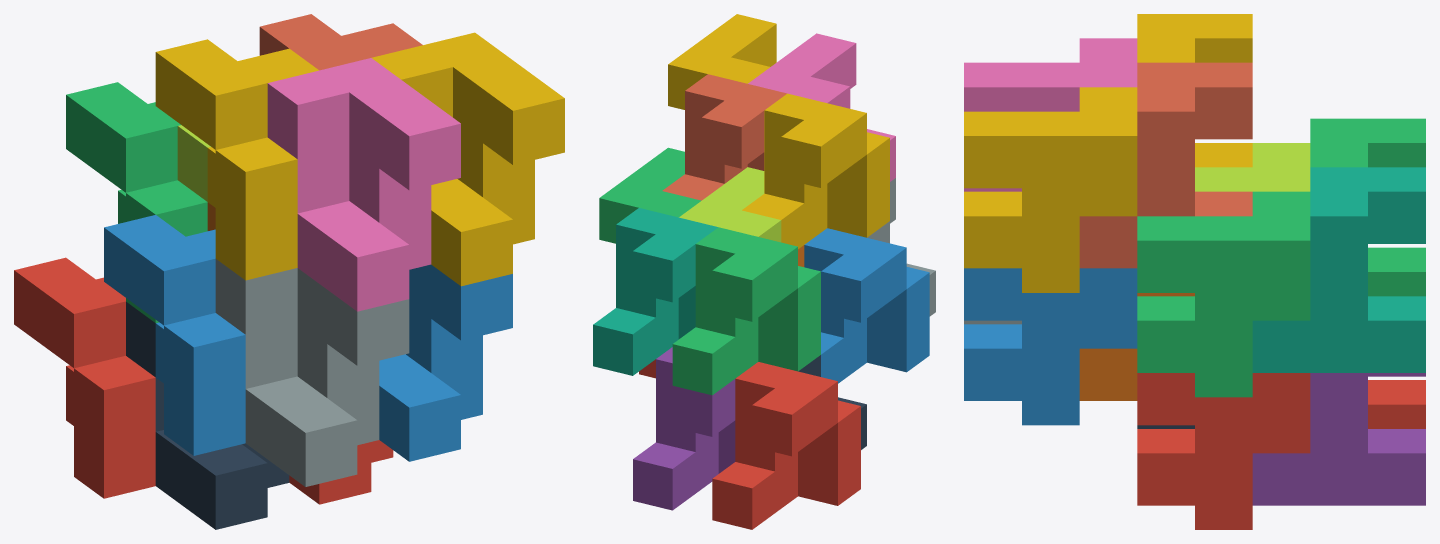
Rendered from tiling.obj.
3 views of the same model, side by side, from view 1: azimuth 30°, elevation 25°; view 2: azimuth 150°, elevation 25°; view 3: azimuth 270°, elevation 25° (orthographic). The views are drawn at different scales.
Visible parts, largest first — view 1: copy_2_domain_4, copy_2_domain_2, copy_2_domain_8, copy_1_domain_4, copy_1_domain_2, copy_1_domain_1, copy_2_domain_6, copy_1_domain_3, copy_2_domain_1, copy_1_domain_8, copy_2_domain_5, copy_2_domain_3; view 2: copy_1_domain_3, copy_1_domain_1, copy_1_domain_4, copy_1_domain_2, copy_1_domain_7, copy_1_domain_5, copy_1_domain_8, copy_2_domain_8, copy_2_domain_4, copy_2_domain_7, copy_2_domain_3, copy_2_domain_2 (+1 smaller); view 3: copy_2_domain_8, copy_2_domain_7, copy_1_domain_7, copy_2_domain_6, copy_2_domain_5, copy_1_domain_8, copy_1_domain_5, copy_2_domain_4, copy_1_domain_3, copy_1_domain_4, copy_2_domain_3, copy_1_domain_6 (+1 smaller).
Part boxes in pixels (bbox=[...]): copy_2_domain_4: bbox=[267, 58, 460, 311]; copy_2_domain_2: bbox=[215, 259, 409, 486]; copy_2_domain_8: bbox=[371, 32, 564, 286]; copy_1_domain_4: bbox=[155, 39, 318, 280]; copy_1_domain_2: bbox=[104, 215, 245, 455]; copy_1_domain_1: bbox=[14, 257, 155, 498]; copy_2_domain_6: bbox=[379, 264, 512, 461]; copy_1_domain_3: bbox=[66, 82, 207, 323]; copy_2_domain_1: bbox=[126, 302, 289, 529]; copy_1_domain_8: bbox=[259, 14, 422, 70]; copy_2_domain_5: bbox=[289, 440, 393, 504]; copy_2_domain_3: bbox=[177, 125, 210, 201]; copy_1_domain_3: bbox=[672, 227, 820, 395]; copy_1_domain_1: bbox=[712, 362, 860, 529]; copy_1_domain_4: bbox=[742, 93, 889, 248]; copy_1_domain_2: bbox=[804, 228, 929, 383]; copy_1_domain_7: bbox=[593, 208, 718, 375]; copy_1_domain_5: bbox=[633, 347, 735, 510]; copy_1_domain_8: bbox=[662, 74, 786, 200]; copy_2_domain_8: bbox=[668, 14, 776, 109]; copy_2_domain_4: bbox=[748, 33, 895, 181]; copy_2_domain_7: bbox=[599, 147, 701, 243]; copy_2_domain_3: bbox=[679, 167, 781, 242]; copy_2_domain_2: bbox=[867, 178, 935, 316]; copy_2_domain_8: bbox=[964, 87, 1137, 292]; copy_2_domain_7: bbox=[1137, 191, 1310, 397]; copy_1_domain_7: bbox=[1252, 167, 1425, 372]; copy_2_domain_6: bbox=[964, 268, 1137, 425]; copy_2_domain_5: bbox=[1137, 373, 1310, 529]; copy_1_domain_8: bbox=[1079, 62, 1252, 268]; copy_1_domain_5: bbox=[1252, 373, 1425, 505]; copy_2_domain_4: bbox=[964, 38, 1137, 191]; copy_1_domain_3: bbox=[1310, 118, 1425, 296]; copy_1_domain_4: bbox=[1137, 14, 1252, 167]; copy_2_domain_3: bbox=[1195, 143, 1310, 191]; copy_1_domain_6: bbox=[1079, 293, 1194, 400].
Bounding box in the file's own units: 6 × 8 × 8.
